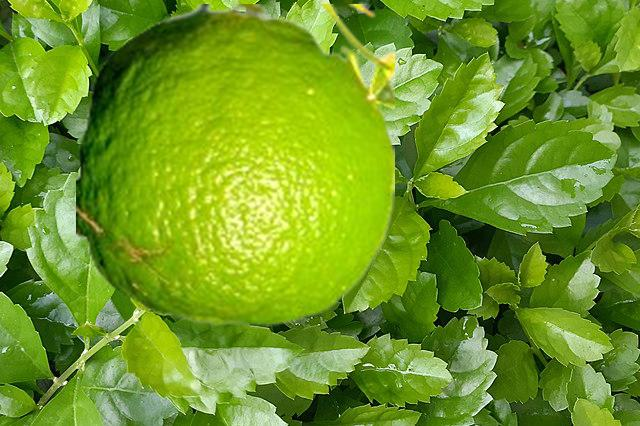dalandan: (76, 4, 393, 325)
